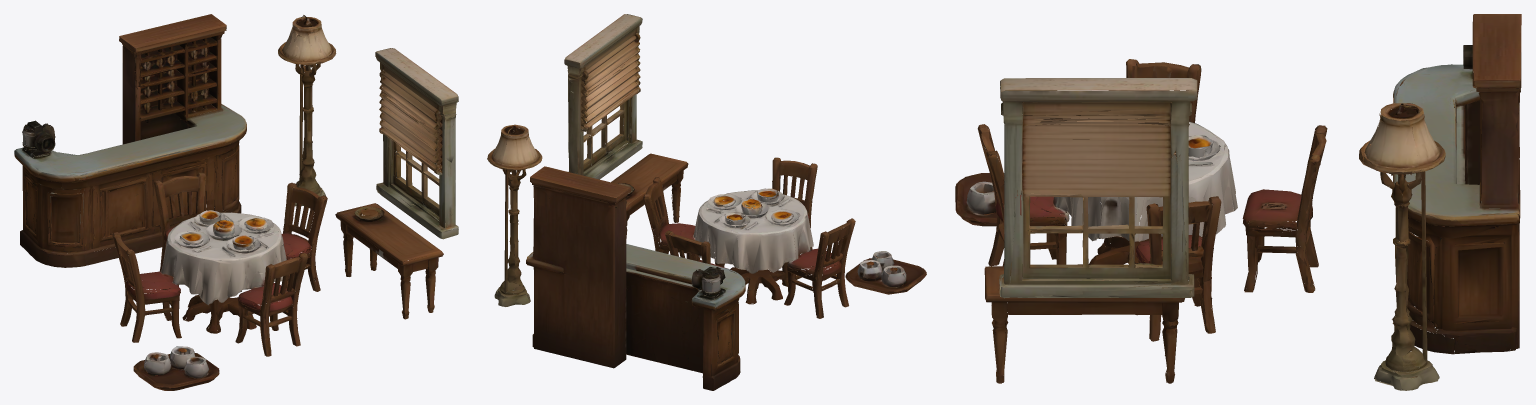
File: env-hotel-lobby-furniture.glb
3 renders of one model, left to right at view 1: azimuth 30°, elevation 25°; view 2: azimuth 150°, elevation 25°; view 3: azimuth 270°, elevation 25°, orthographic. The views are drawn at different scales.
Parts seen in each view (by area): view 1: env-hotel-lobby-furniture; view 2: env-hotel-lobby-furniture; view 3: env-hotel-lobby-furniture.
Boxes of the visible parts, bbox=[...] form: env-hotel-lobby-furniture: bbox=[14, 14, 458, 390]; env-hotel-lobby-furniture: bbox=[487, 14, 926, 390]; env-hotel-lobby-furniture: bbox=[955, 14, 1521, 390].
Bounding box in the file's own units: 4.4 × 2.8 × 4.52.
Materials: 1 (1 with a texture image).
